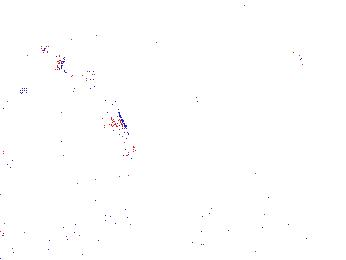X-ray fish: (238, 52, 263, 72), (274, 48, 289, 75)
glassfish: (79, 68, 138, 165)
redtail glassfish: (36, 43, 67, 74)
